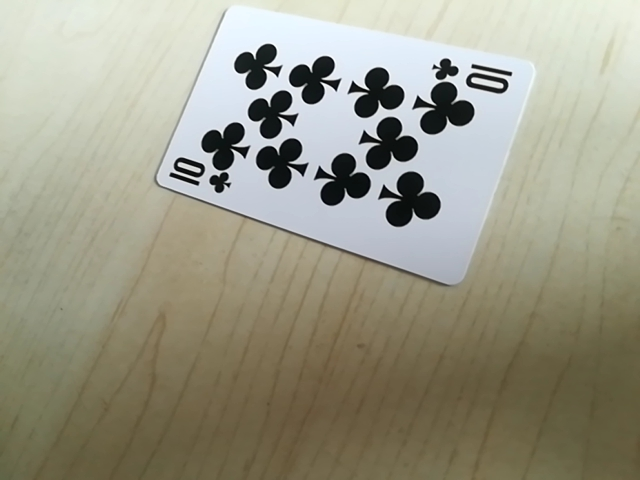mh 10: (428, 57, 518, 91), (163, 163, 233, 197)
